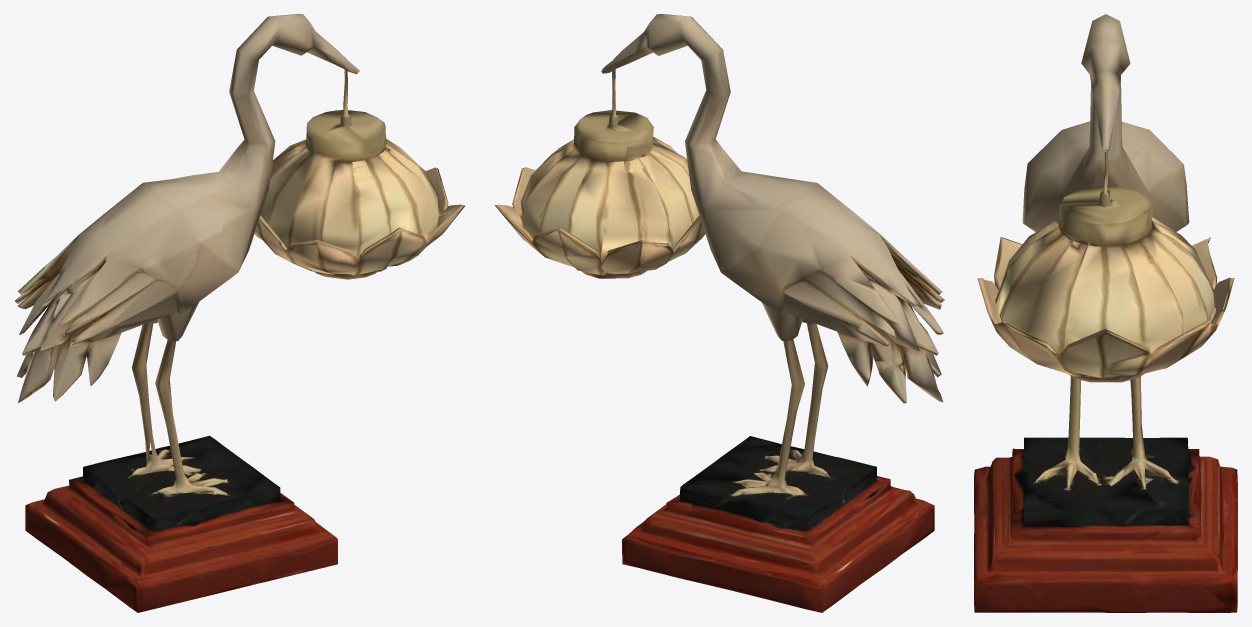
File: au_furn_lamp_imperial.glb
3 renders of one model, left to right at view 1: azimuth 30°, elevation 25°; view 2: azimuth 150°, elevation 25°; view 3: azimuth 270°, elevation 25°, orthographic. The views are drawn at different scales.
Parts seen in each view (by area): view 1: tripo_node_16b6080b-2480-41b2-a493-c010442f9b88; view 2: tripo_node_16b6080b-2480-41b2-a493-c010442f9b88; view 3: tripo_node_16b6080b-2480-41b2-a493-c010442f9b88.
Part boxes in pixels (bbox=[...]): tripo_node_16b6080b-2480-41b2-a493-c010442f9b88: bbox=[15, 14, 464, 612]; tripo_node_16b6080b-2480-41b2-a493-c010442f9b88: bbox=[494, 14, 945, 612]; tripo_node_16b6080b-2480-41b2-a493-c010442f9b88: bbox=[974, 14, 1237, 612].
Bounding box in the file's own units: 0.8458 × 0.9786 × 0.3937.
1 material, 1 textured.
